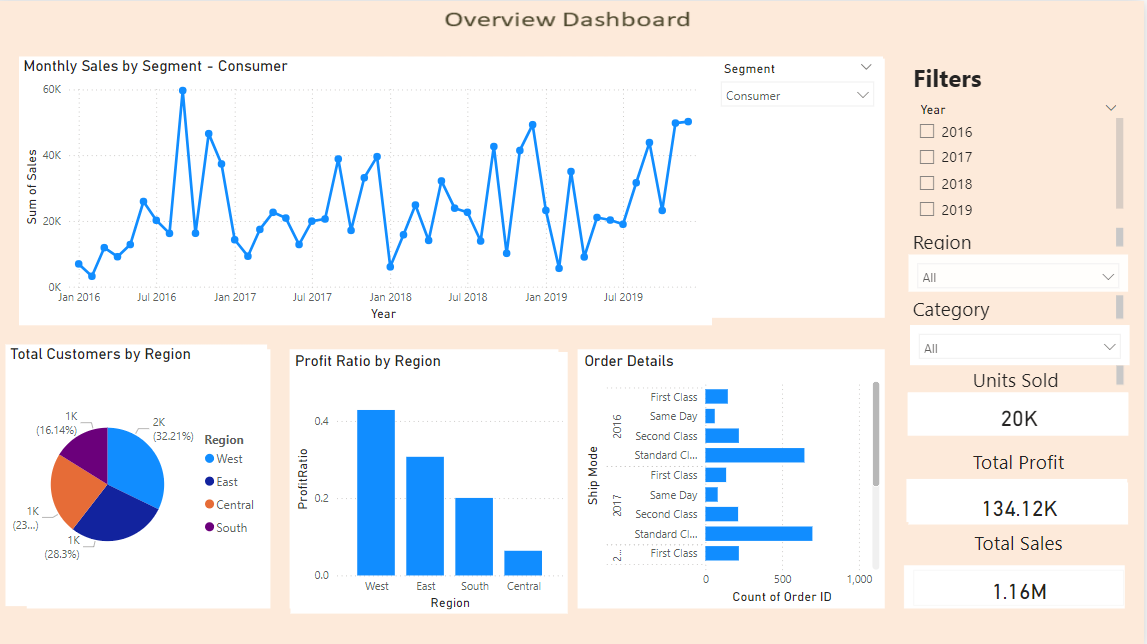

The page's visual inventory and layout, read from the dashboard file:
{"tool":"powerbi","page":{"name":"Page 1","canvas":[1280,720],"ordinal":0},"visuals":[{"type":"slicer","title":"Year By Order Date","fields":{"Values":["Orders.Order Date.Variation.Date Hierarchy.Year"]},"box":[1019.1,106.3,243.8,140.7],"z":0},{"type":"cardVisual","fields":{"Data":["Sum(Orders.Sales)"]},"box":[1018.3,626.6,244.3,50.4],"z":1000},{"type":"cardVisual","fields":{"Data":["Sum(Orders.Profit)"]},"box":[1018.3,535.3,244.3,46.6],"z":2000},{"type":"textbox","box":[1019.1,61,232.9,45.3],"z":3000},{"type":"textbox","box":[1019.1,247,243.8,34.4],"z":4000},{"type":"slicer","fields":{"Values":["Orders.Order Date.Variation.Date Hierarchy.Year"]},"box":[1018.3,281.6,244.3,41],"z":5000},{"type":"textbox","box":[1019.1,322,243.8,37.5],"z":6000},{"type":"slicer","fields":{"Values":["Orders.Category"]},"box":[1020.2,359.9,244.3,44.8],"z":7000},{"type":"textbox","box":[1018.3,581.9,244.3,44.8],"z":8000},{"type":"textbox","box":[1018.3,492.4,244.3,42.9],"z":9000},{"type":"textbox","box":[1020.2,404.7,242.4,29.8],"z":10000},{"type":"cardVisual","fields":{"Data":["Sum(Orders.Quantity)"]},"box":[1018.3,434.5,244.3,44.8],"z":11000},{"type":"lineChart","title":"Monthly Sales by Segment - Consumer ","fields":{"Category":["Orders.Order Date.Variation.Date Hierarchy.Year","Orders.Order Date.Variation.Date Hierarchy.Quarter","Orders.Order Date.Variation.Date Hierarchy.Month","Orders.Order Date.Variation.Date Hierarchy.Day"],"Y":["Sum(Orders.Sales)"]},"box":[29.8,61.5,770.2,298.4],"z":12000},{"type":"pieChart","title":"Total Customers by Region","fields":{"Category":["Orders.Region"],"Y":["Orders.totalCustomers"]},"box":[14.9,382.3,290.9,290.9],"z":13000},{"type":"columnChart","title":"Profit Ratio by Region","fields":{"Category":["Orders.Region"],"Y":["Orders.ProfitRatio"]},"box":[332,389.8,307.7,290.9],"z":15000},{"type":"slicer","fields":{"Values":["Orders.Segment"]},"box":[800.1,61.5,190.2,72.7],"z":17000},{"type":"barChart","title":"Order Details","fields":{"Category":["Orders.Order Date.Variation.Date Hierarchy.Year","Orders.Ship Mode"],"Y":["CountNonNull(Orders.Order ID)"]},"box":[652.7,389.8,337.6,283.5],"z":17001}]}

Visuals, with their boxes in screenshot pixels (x1, y1, x2, y2), scaled from the page's 1280x720 canvas onto the 1147x644 screenshot:
"Year By Order Date" slicer: 913 95 1132 221
cardVisual - Sum(Orders.Sales): 912 560 1131 606
cardVisual - Sum(Orders.Profit): 912 479 1131 520
textbox: 913 55 1122 95
textbox: 913 221 1132 252
slicer - Orders.Order Date.Variation.Date Hierarchy.Year: 912 252 1131 289
textbox: 913 288 1132 322
slicer - Orders.Category: 914 322 1133 362
textbox: 912 520 1131 561
textbox: 912 440 1131 479
textbox: 914 362 1131 389
cardVisual - Sum(Orders.Quantity): 912 389 1131 429
"Monthly Sales by Segment - Consumer " lineChart: 27 55 717 322
"Total Customers by Region" pieChart: 13 342 274 602
"Profit Ratio by Region" columnChart: 298 349 573 609
slicer - Orders.Segment: 717 55 887 120
"Order Details" barChart: 585 349 887 602
